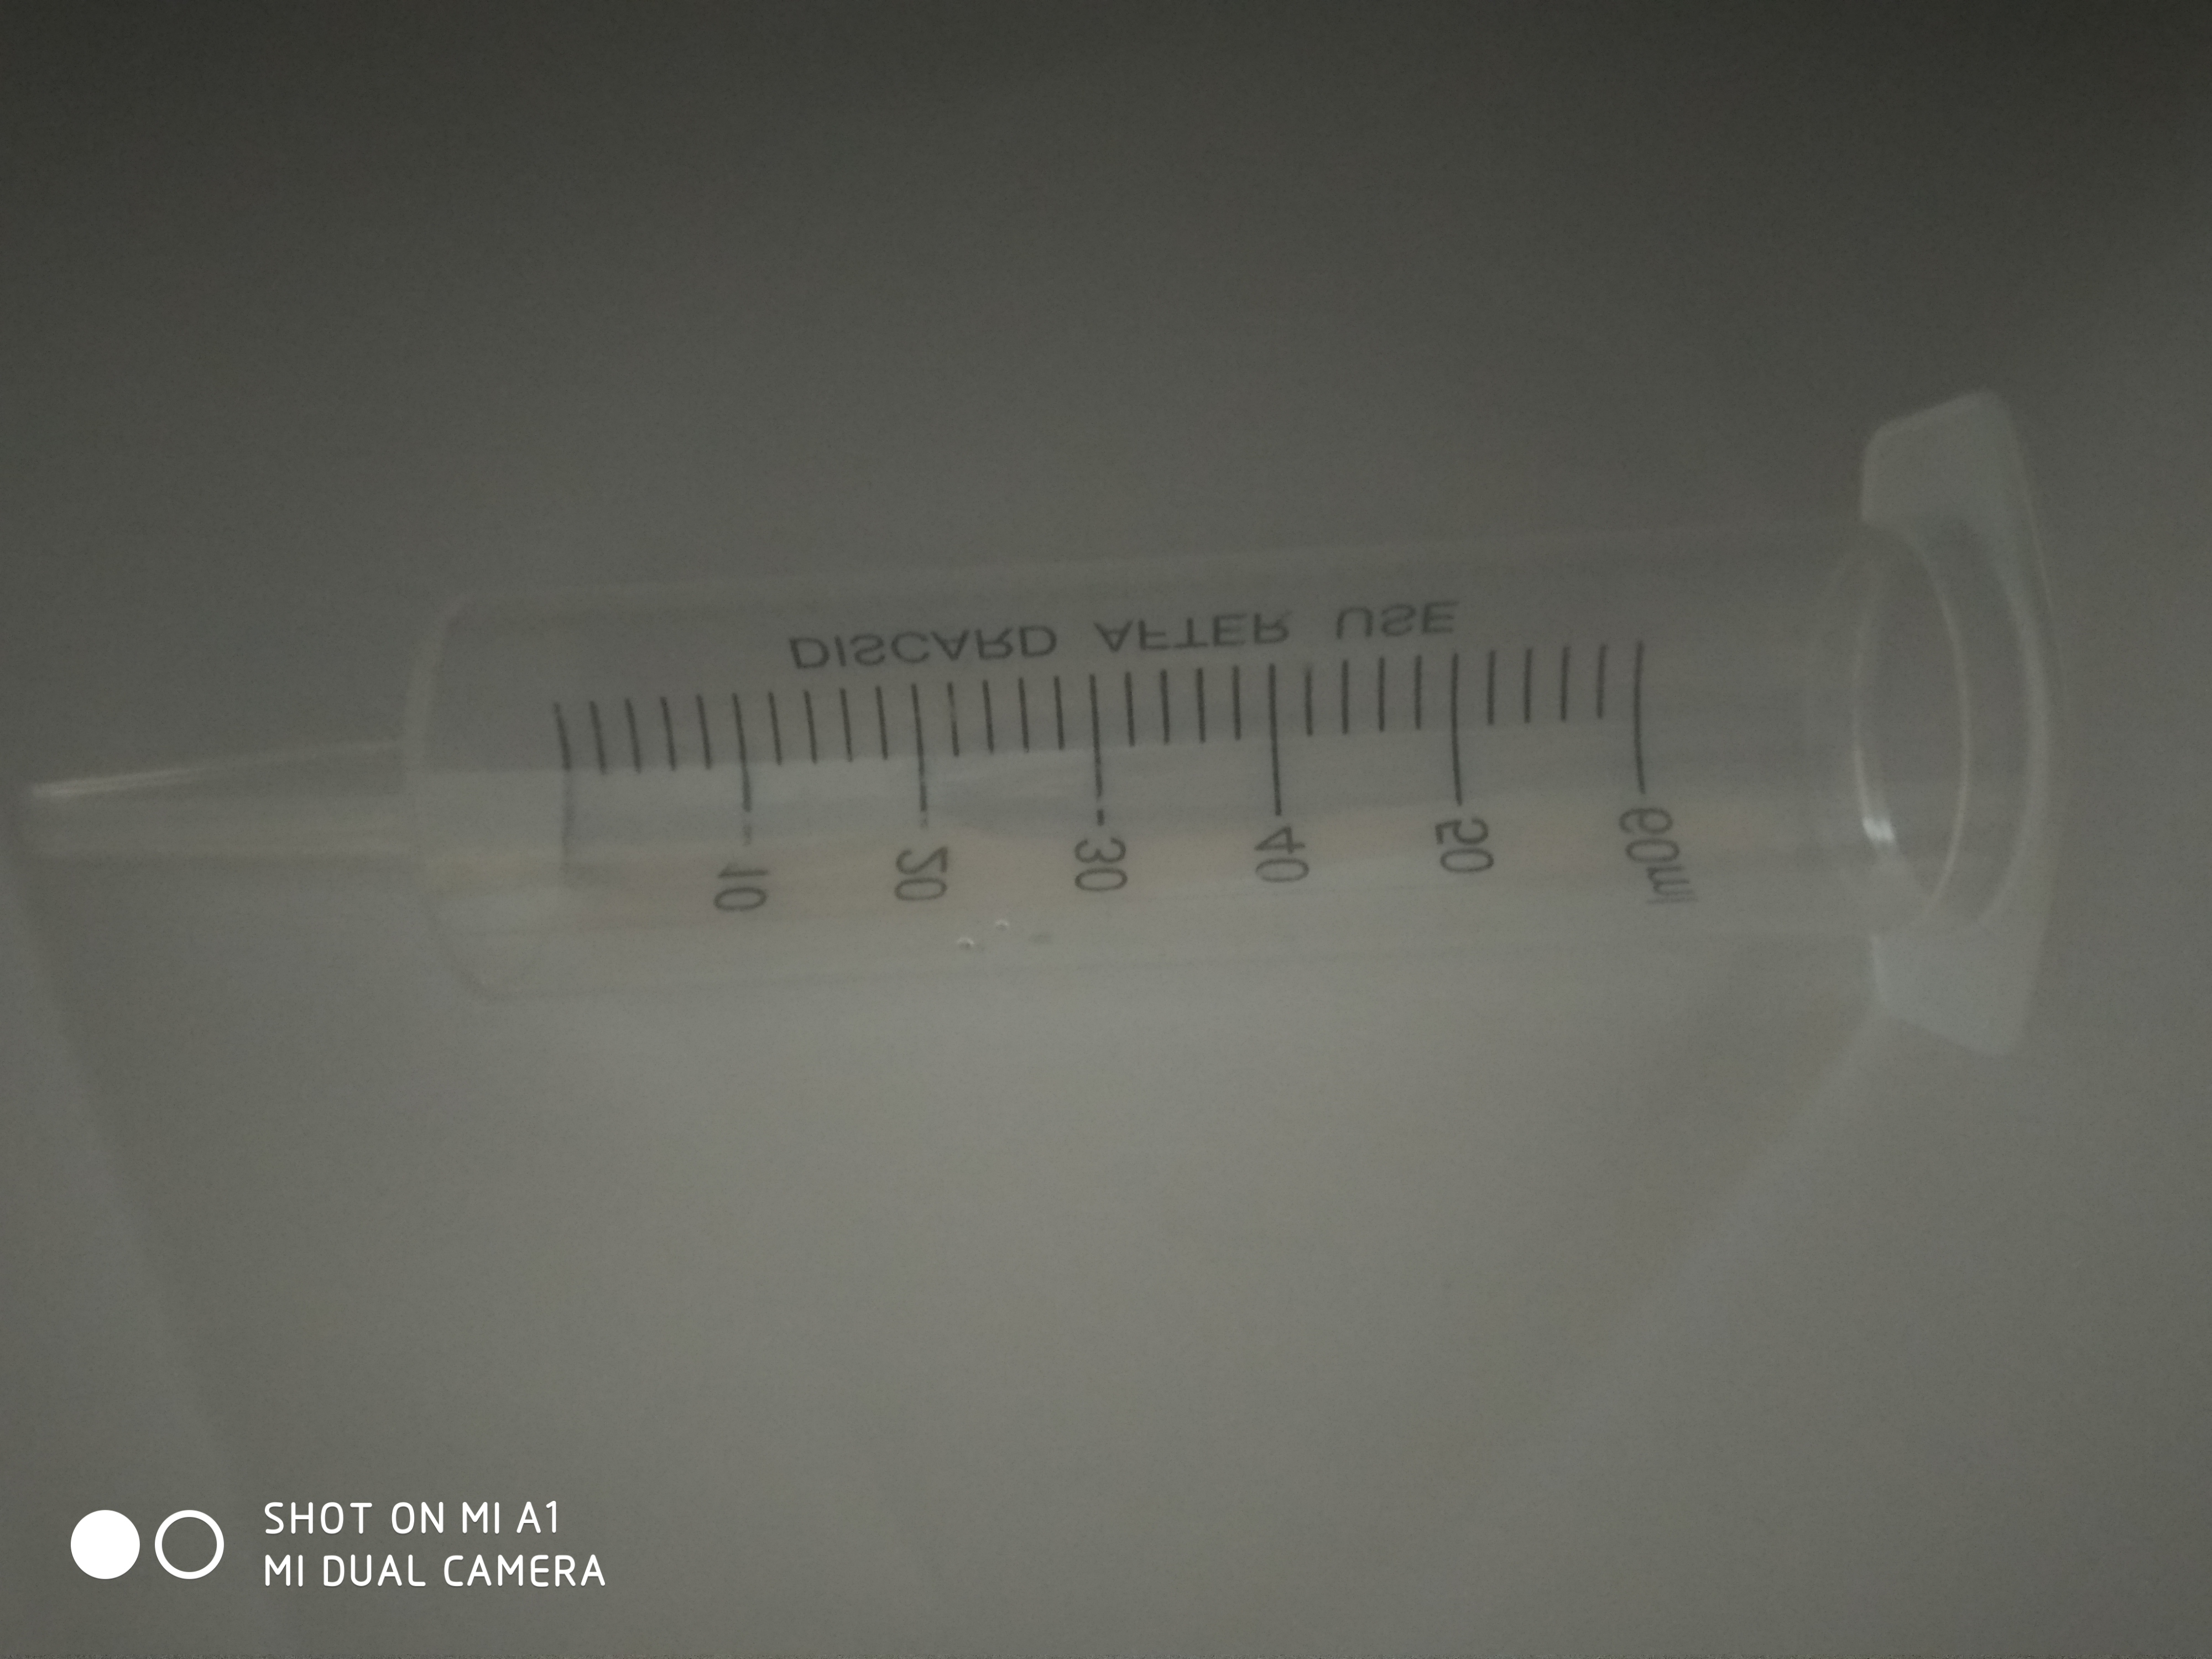syringe: (14, 385, 2087, 1066)
